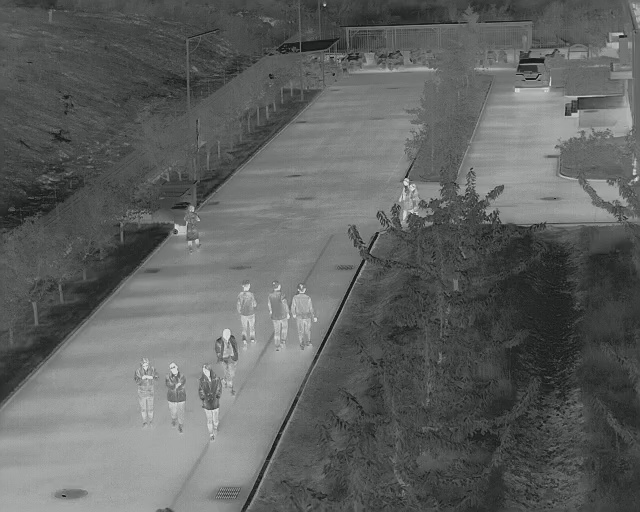person: (196, 364, 226, 444), (133, 357, 160, 429), (265, 277, 291, 351), (294, 280, 320, 351), (216, 327, 243, 395), (165, 361, 188, 432), (236, 280, 259, 340), (184, 204, 205, 251), (399, 178, 417, 213)
vehicle: (515, 56, 550, 95)
